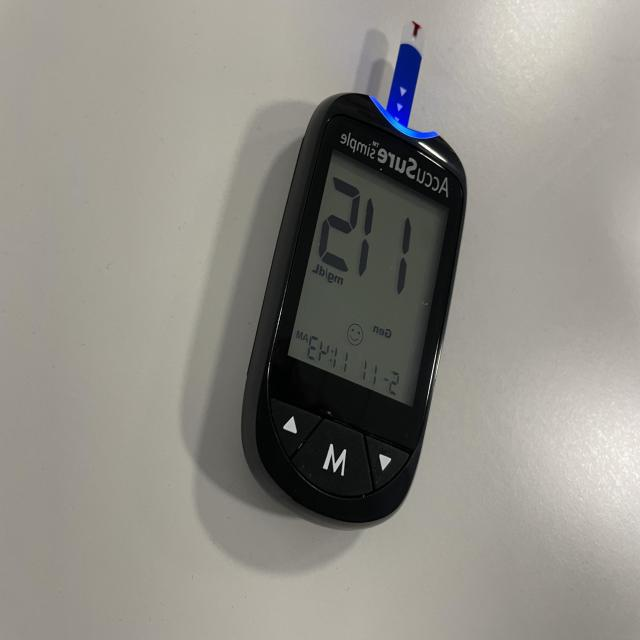gluco: (242, 45, 468, 529)
